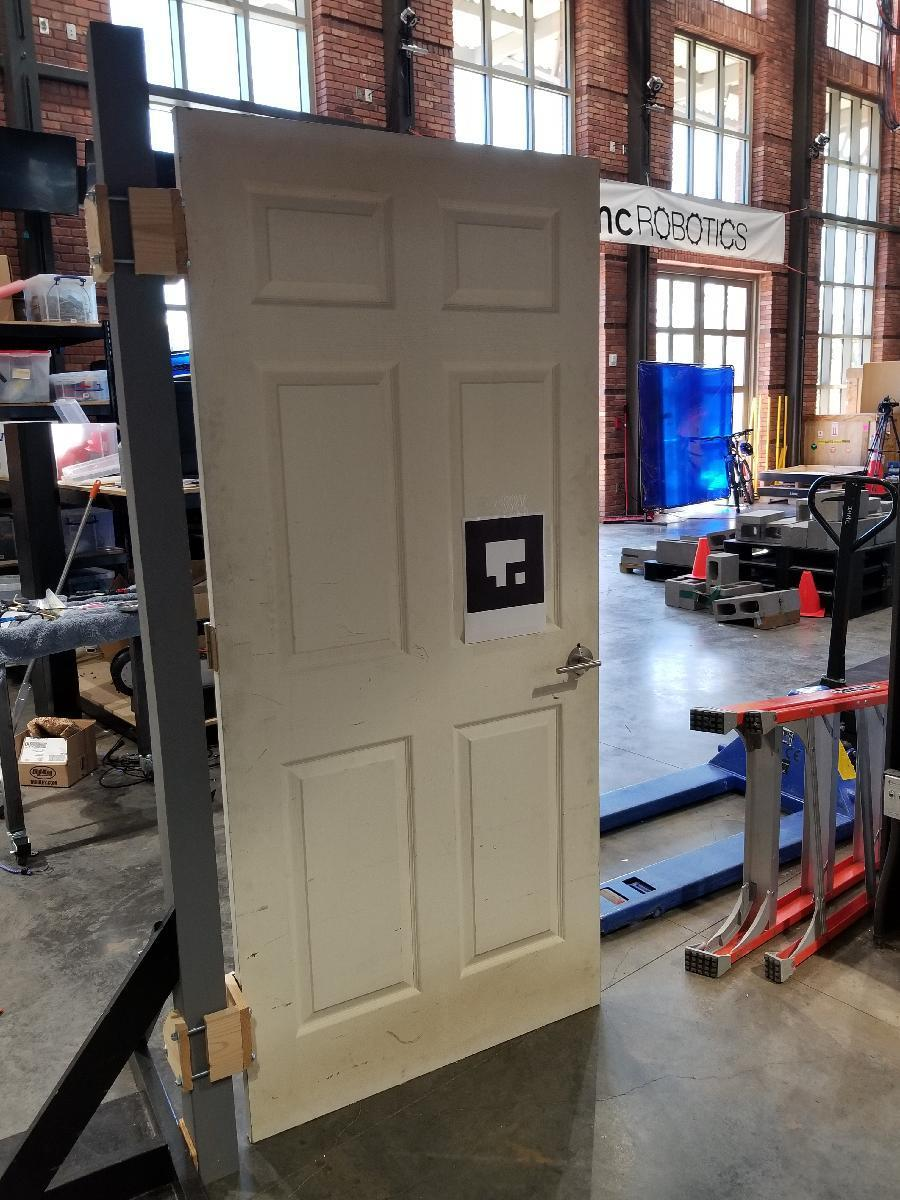door: (186, 116, 606, 1046)
handle: (549, 645, 602, 682)
